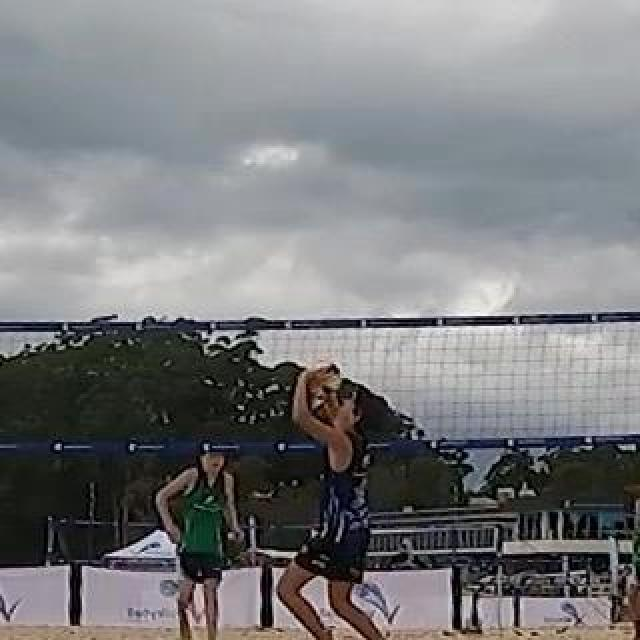volleyball: (305, 359, 341, 395)
